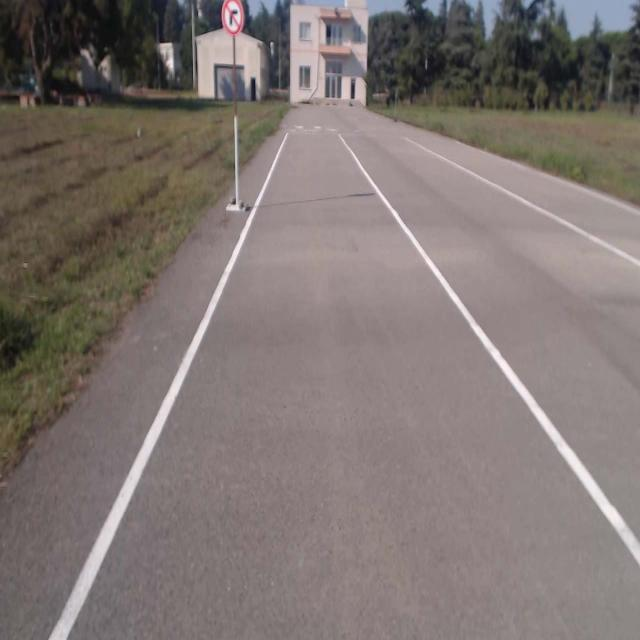sagadonulmez: (222, 1, 244, 35)
